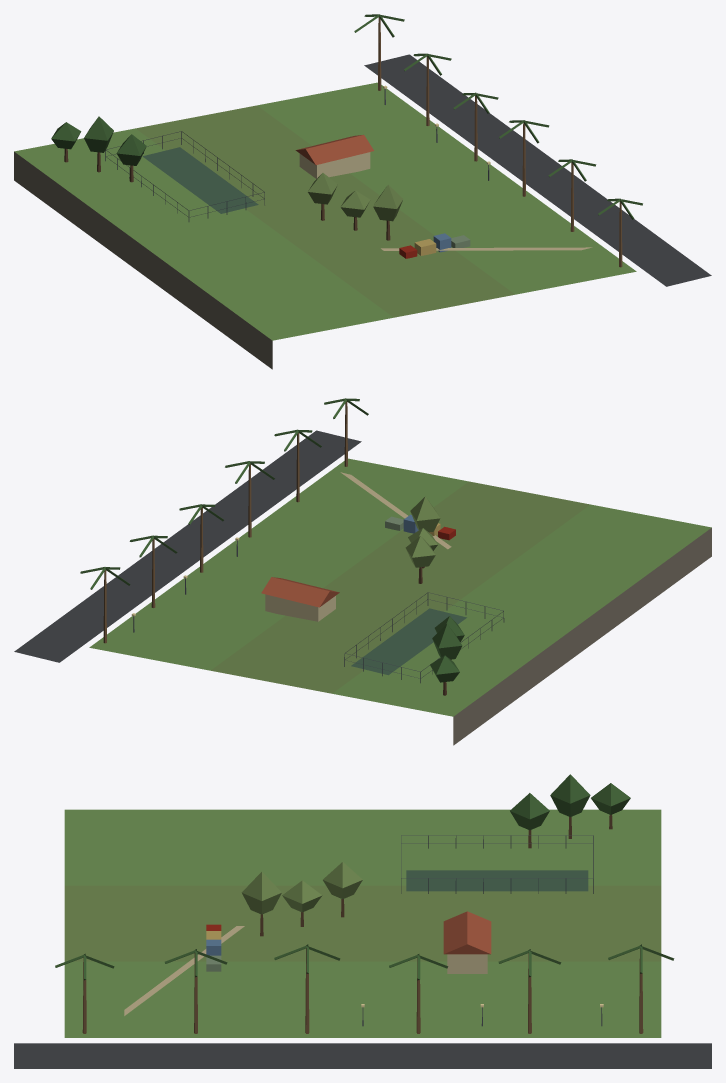
The model's file is mobile.glb.
The picture shows the model from 3 angles, top to bottom: view 1: azimuth 30°, elevation 25°; view 2: azimuth 150°, elevation 25°; view 3: azimuth 270°, elevation 25°; orthographic projection. The views are drawn at different scales.
Visible parts, largest first — view 1: lm.dolores-park; view 2: lm.dolores-park; view 3: lm.dolores-park.
Boxes of the visible parts, x1,y1,x2,y2 form: lm.dolores-park: [14, 14, 711, 369]; lm.dolores-park: [14, 398, 711, 745]; lm.dolores-park: [14, 774, 711, 1068].
Size of the model in its own units: 110 by 21.46 by 138.
